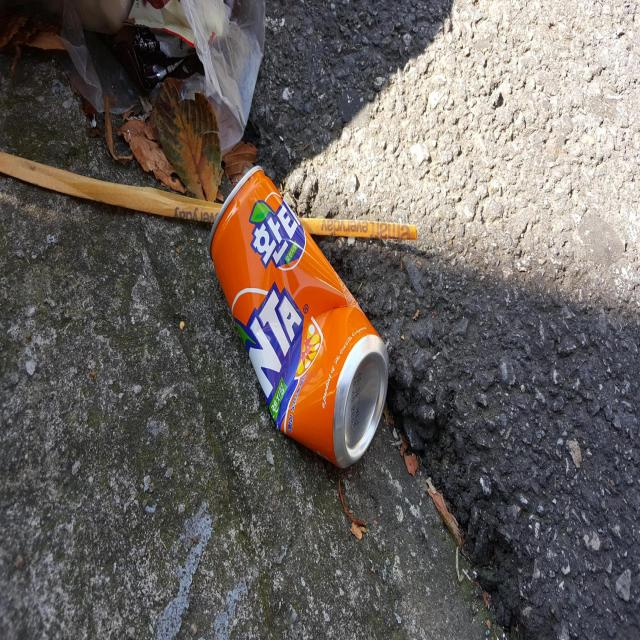can: (209, 165, 389, 468)
